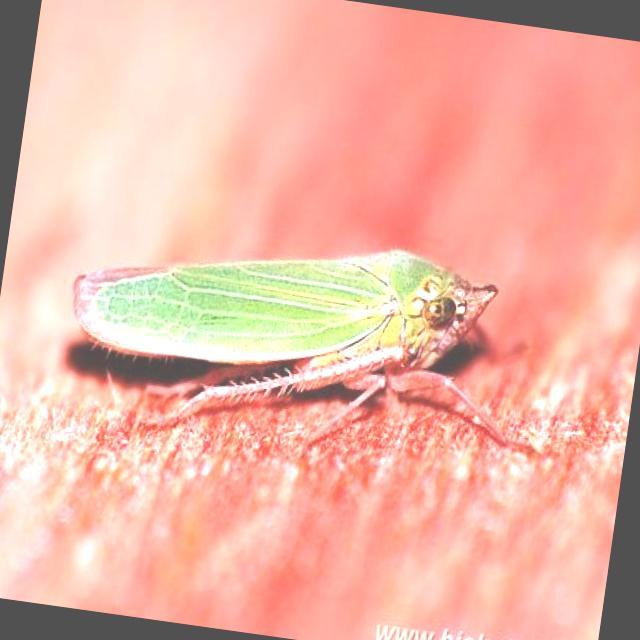green leaf hopper: (75, 251, 497, 388)
